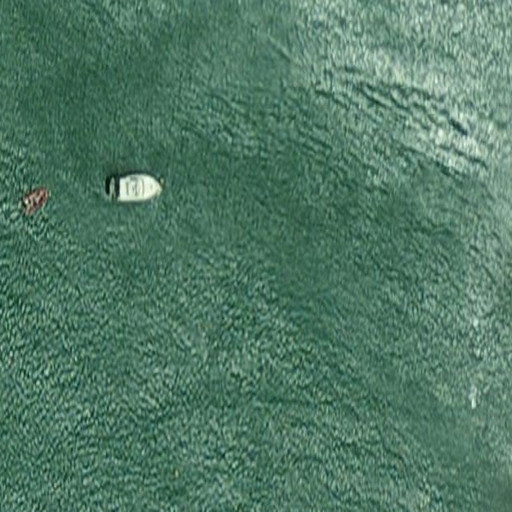ship: (104, 171, 165, 206)
